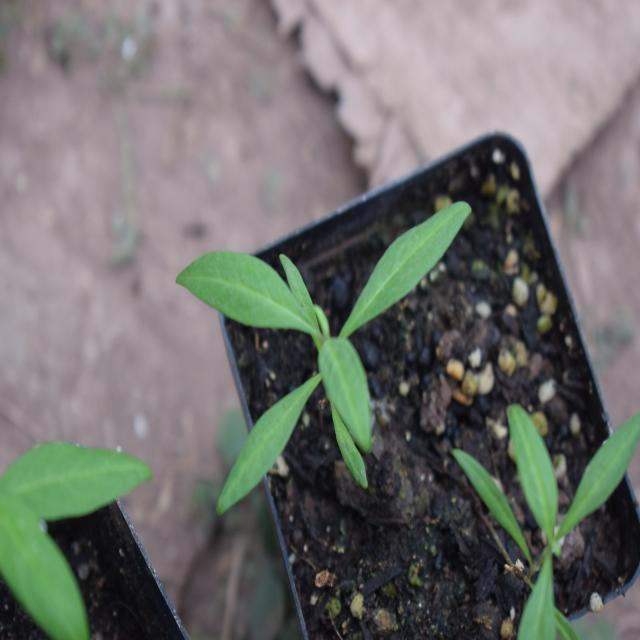white_smart_weed: (152, 170, 478, 518)
